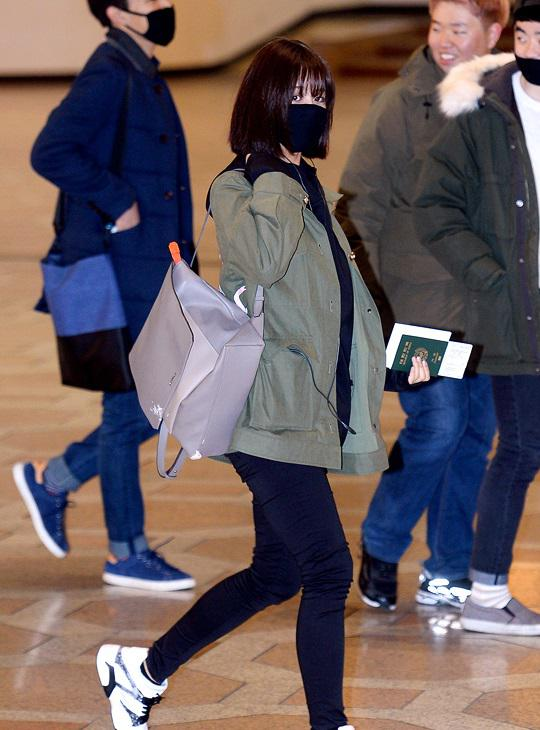NONE: (432, 13, 480, 71)
OK: (269, 82, 340, 153), (118, 1, 178, 51)
WRONG: (513, 24, 540, 86)
